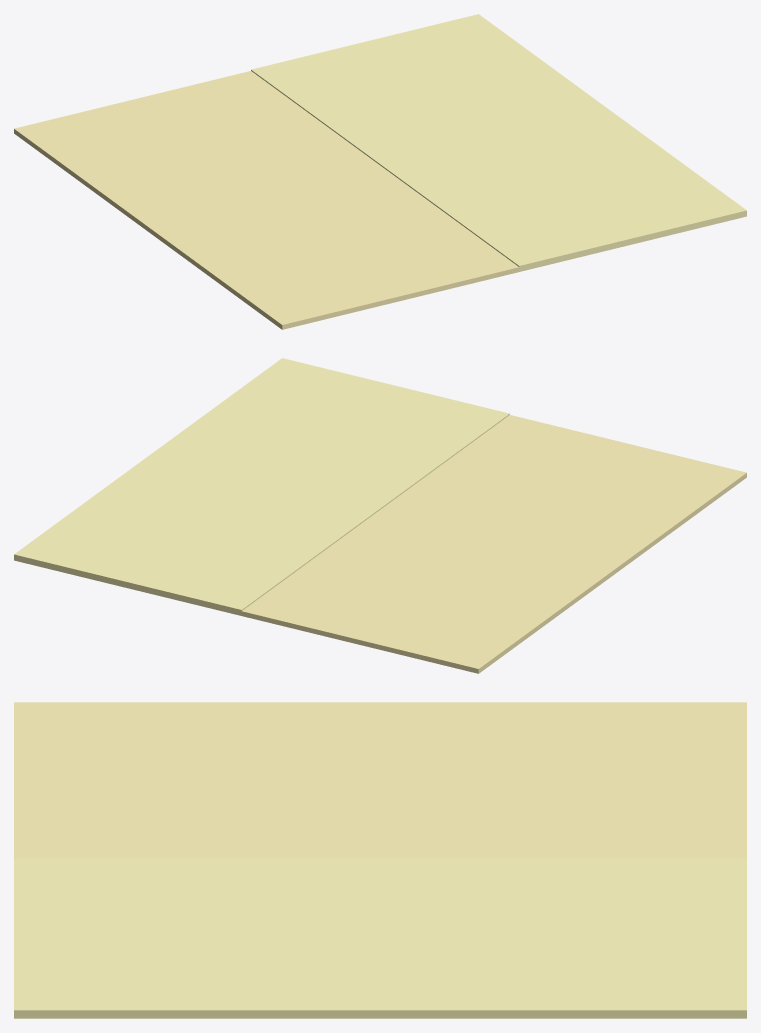
Rendered from road_asphalt_concrete_transition.glb.
The picture shows the model from 3 angles, top to bottom: view 1: azimuth 30°, elevation 25°; view 2: azimuth 150°, elevation 25°; view 3: azimuth 270°, elevation 25°; orthographic projection. The views are drawn at different scales.
Parts seen in each view (by area): view 1: asphalt_lane, concrete_lane; view 2: asphalt_lane, concrete_lane; view 3: concrete_lane, asphalt_lane.
Part boxes in pixels (x1=…): asphalt_lane: x1=14, y1=71, x2=519, y2=329; concrete_lane: x1=251, y1=14, x2=746, y2=271; asphalt_lane: x1=241, y1=415, x2=746, y2=673; concrete_lane: x1=14, y1=358, x2=509, y2=615; concrete_lane: x1=14, y1=858, x2=746, y2=1018; asphalt_lane: x1=14, y1=702, x2=746, y2=858.
Bounding box in the file's own units: 4 × 0.05 × 4.
